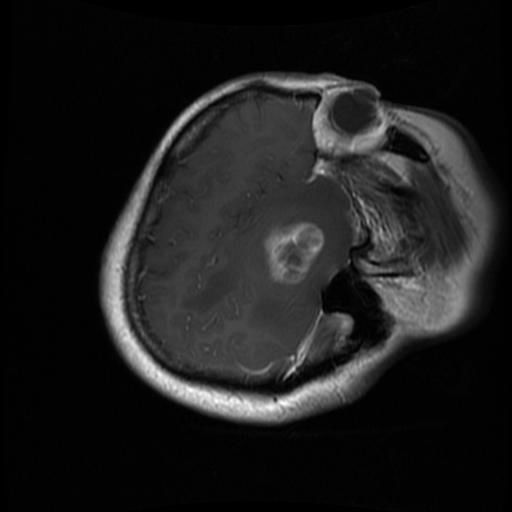glioma: (261, 222, 323, 286)
